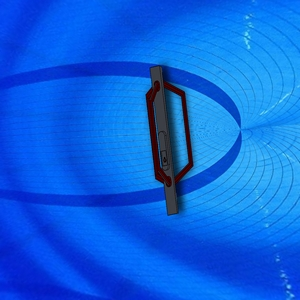submarine: (140, 62, 199, 220)
